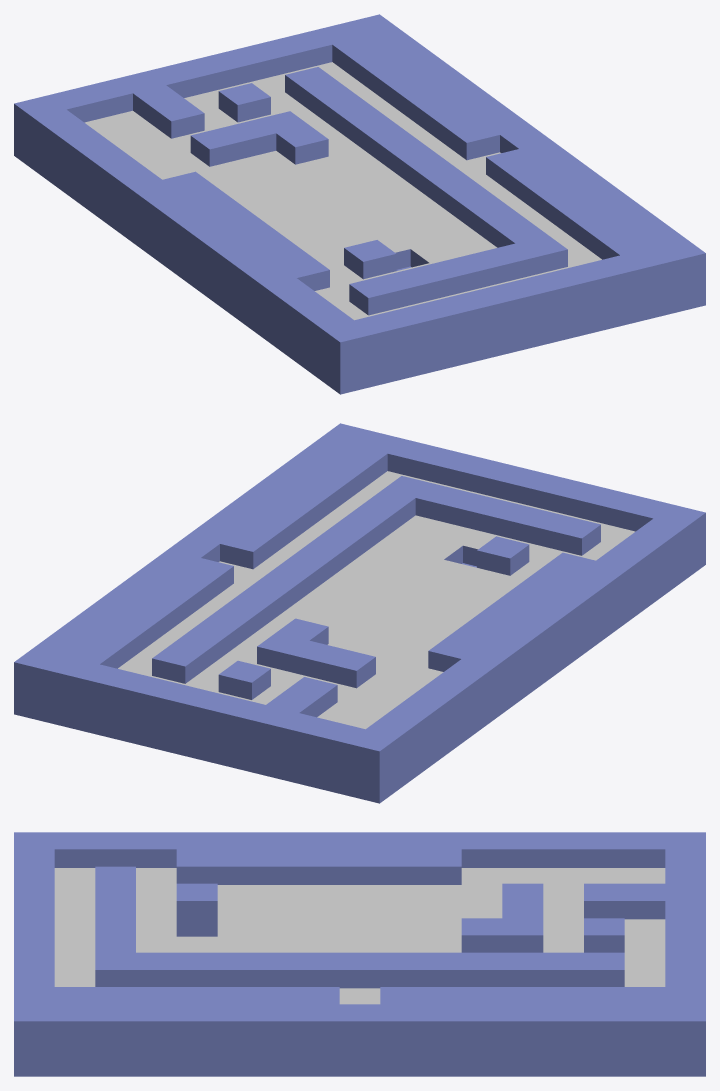
Rendered from 022_platform.fbx.
3 renders of one model, top to bottom at view 1: azimuth 30°, elevation 25°; view 2: azimuth 150°, elevation 25°; view 3: azimuth 270°, elevation 25°, orthographic. The views are drawn at different scales.
Visible parts, largest first — view 1: Grid; view 2: Grid; view 3: Grid.
Part boxes in pixels (left/top/right/bottom): Grid: left=14, top=14, right=705, bottom=394; Grid: left=14, top=423, right=705, bottom=803; Grid: left=14, top=832, right=705, bottom=1076.
Size of the model in its own units: 1100 by 150 by 1700.
